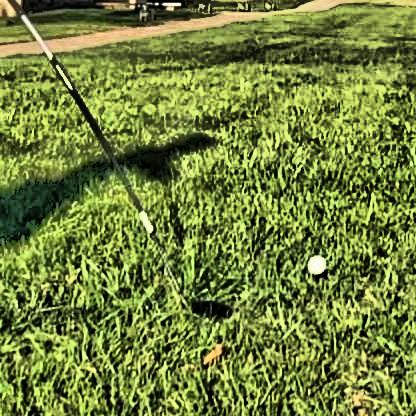golfball: (303, 251, 324, 272)
